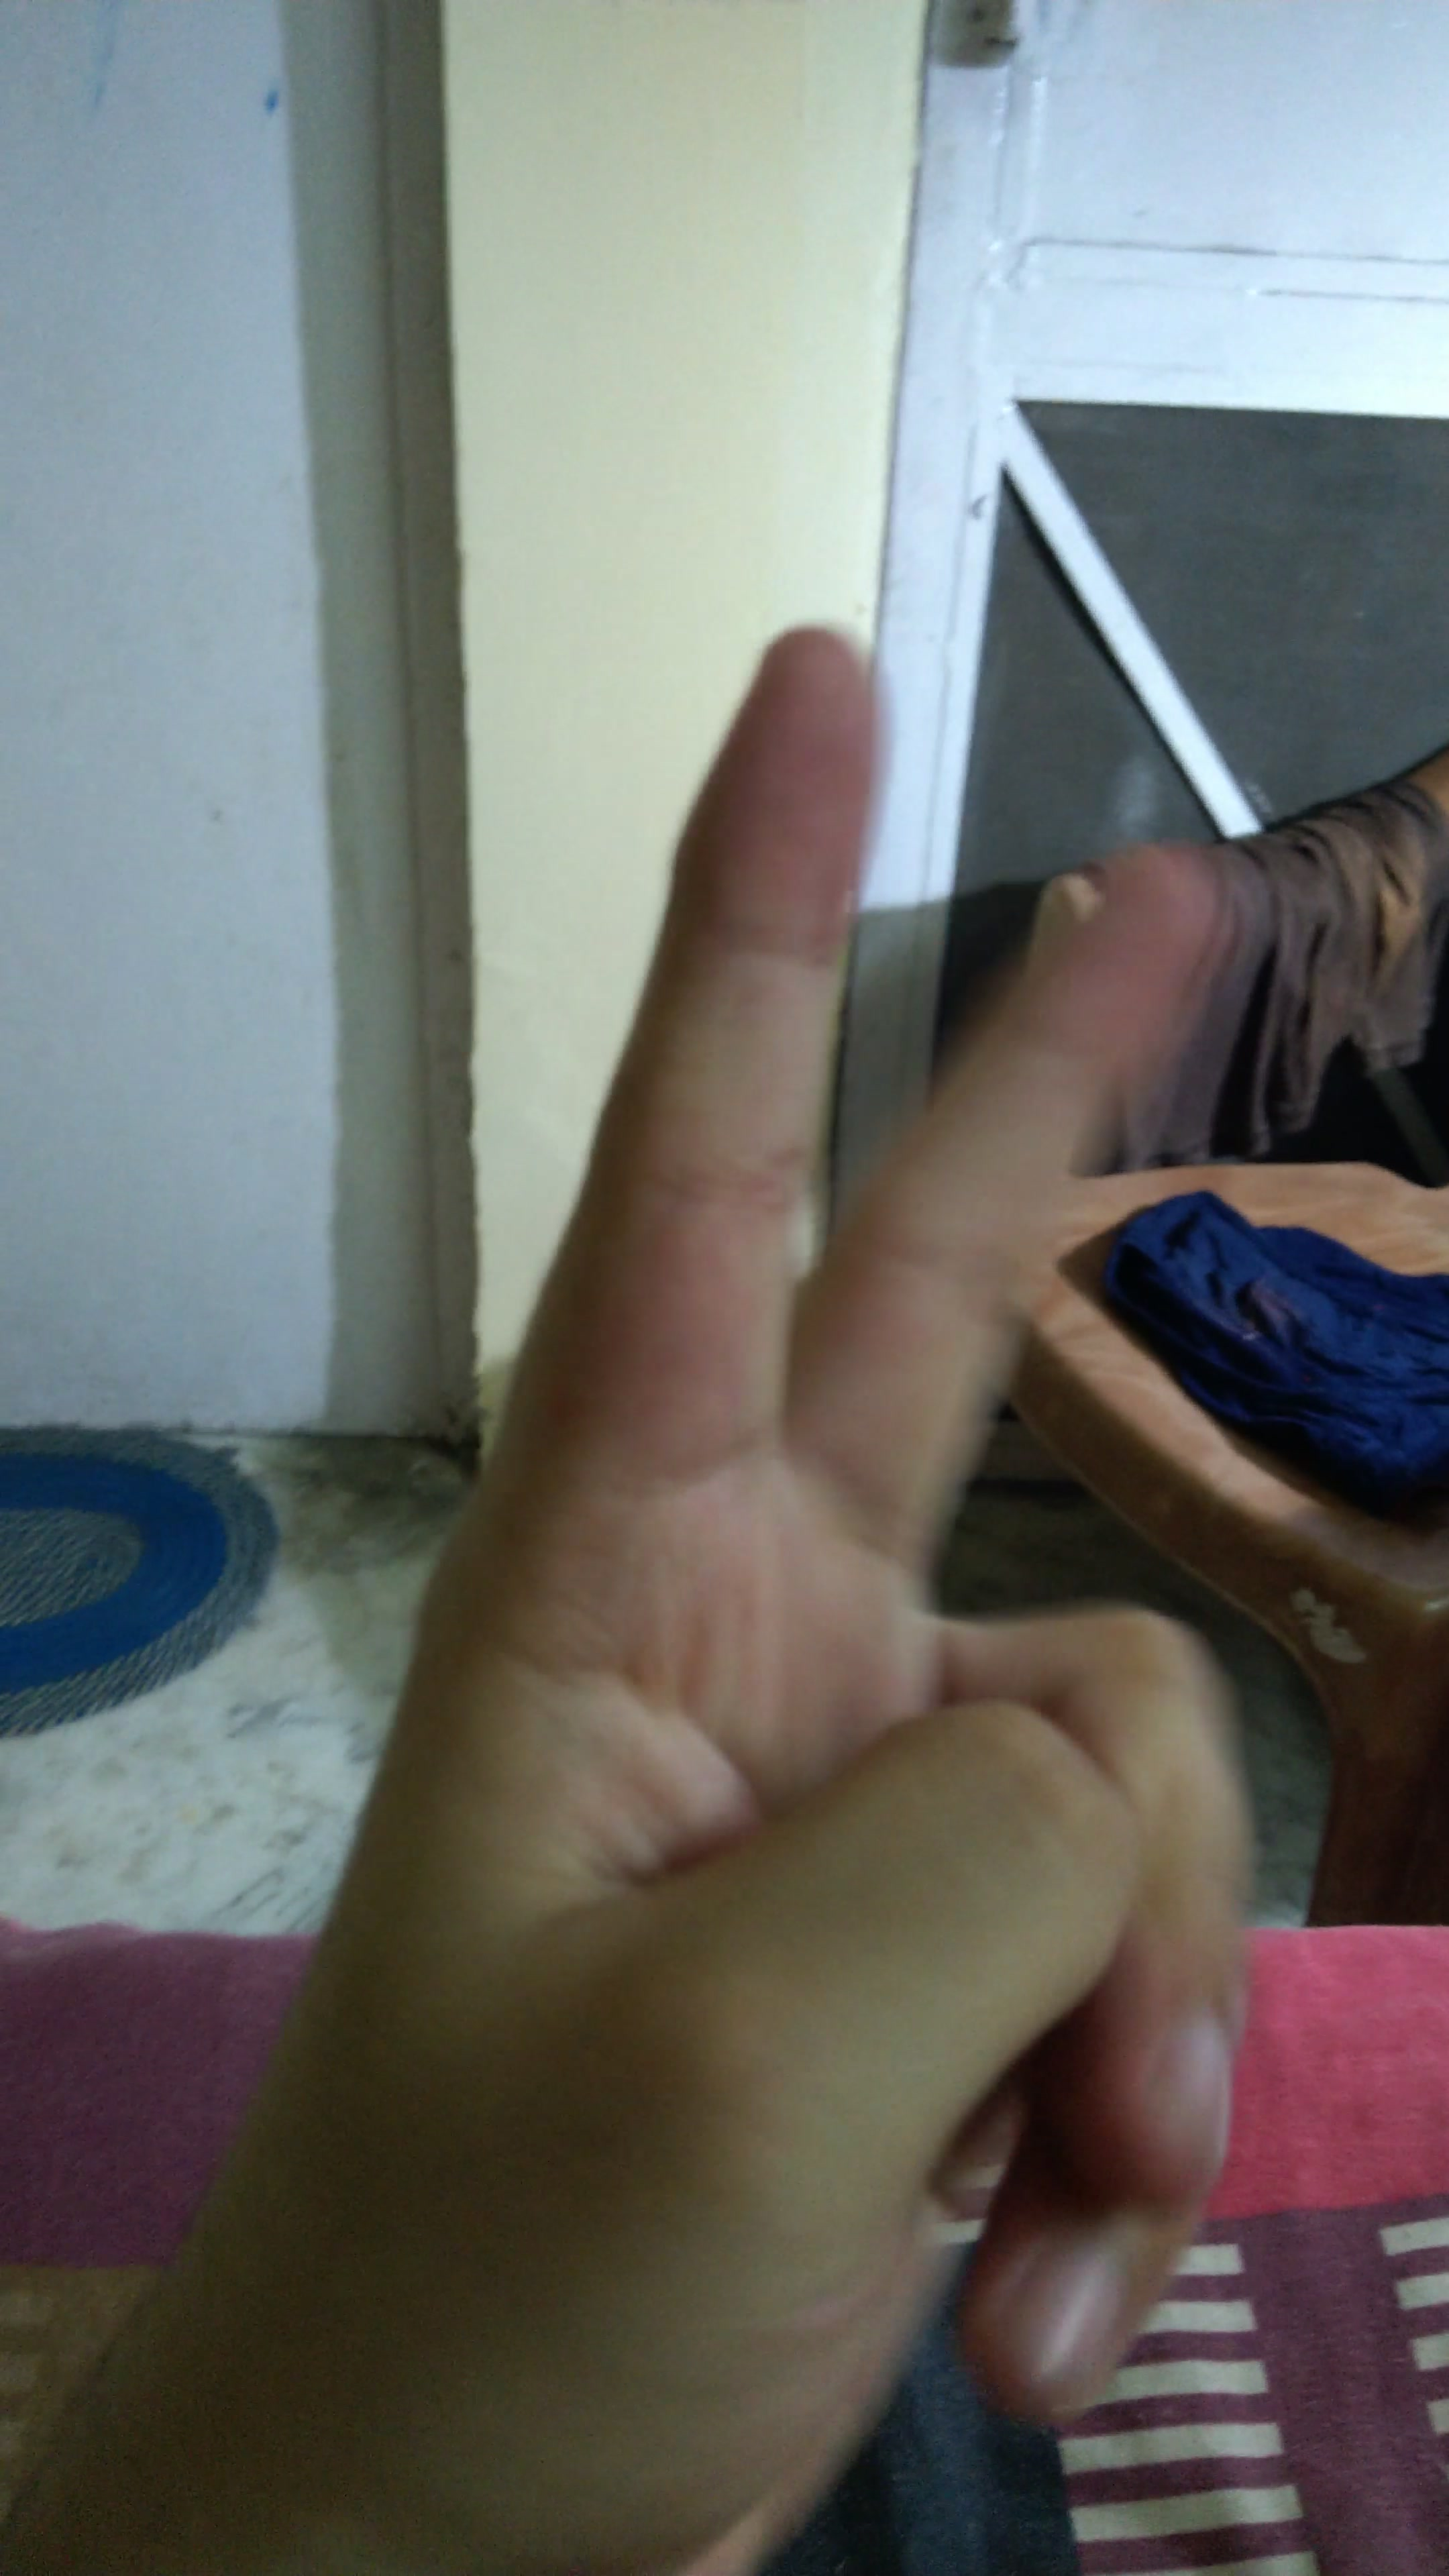hand: (186, 589, 1293, 2473)
